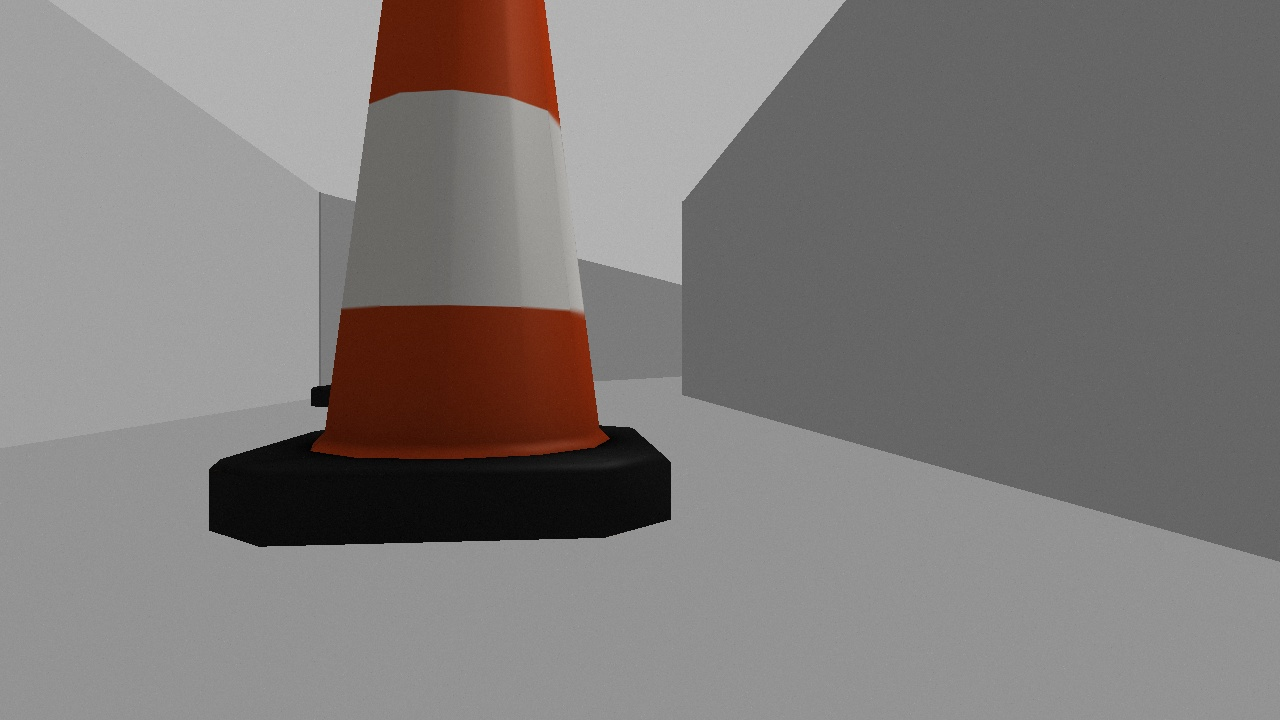barricade: (183, 1, 687, 562)
